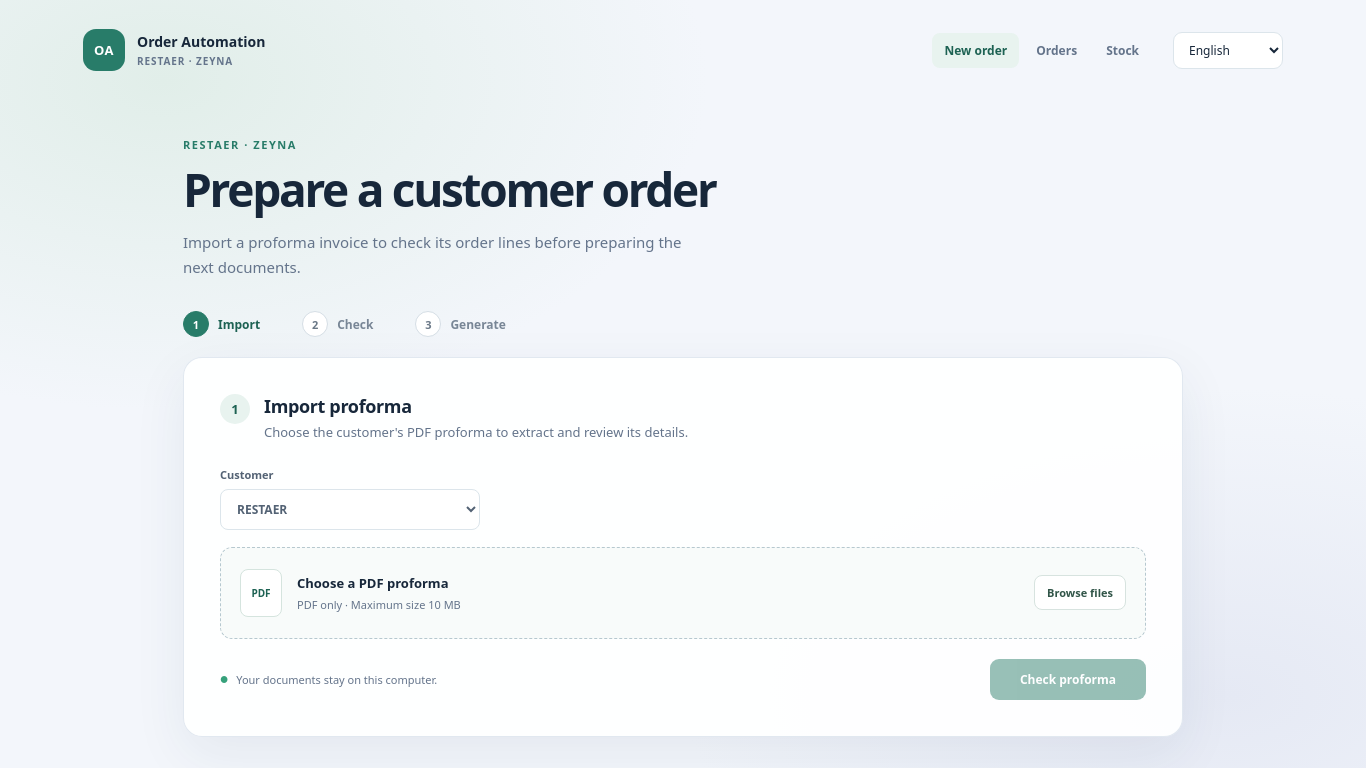
Test: Order Automation home › navigates between order history and the new-order workflow
The width and height of the screenshot is (1366, 768).
Click the button "Orders" at (1057, 50), box [1024,32,1089,68]
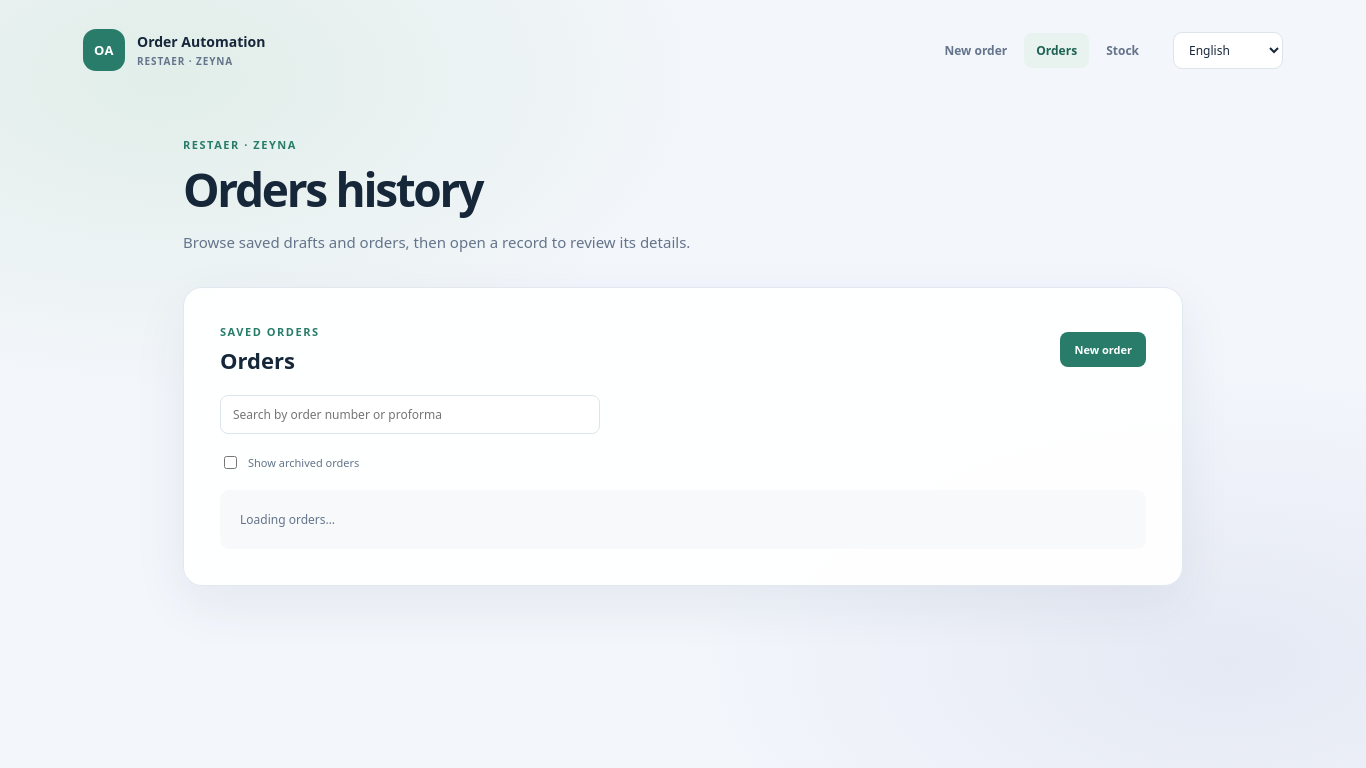
Expected: the heading "Orders history" is shown, [183,158,482,220]
Click the button "New order" in the row of "Order Automation" at (976, 50), box [932,32,1019,68]
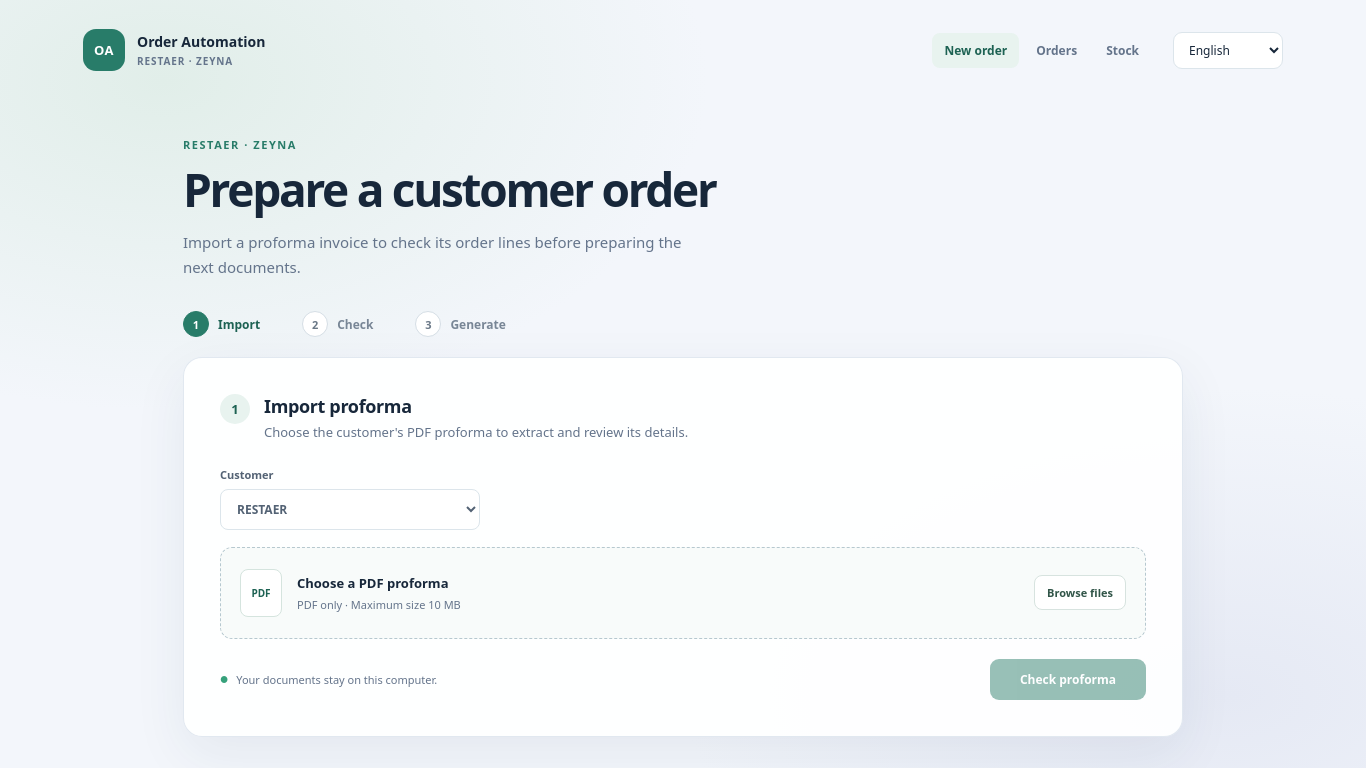
Expected: the heading "Prepare a customer order" is shown, [183,164,803,216]
Click the button "Stock" at (1123, 50), box [1094,32,1151,68]
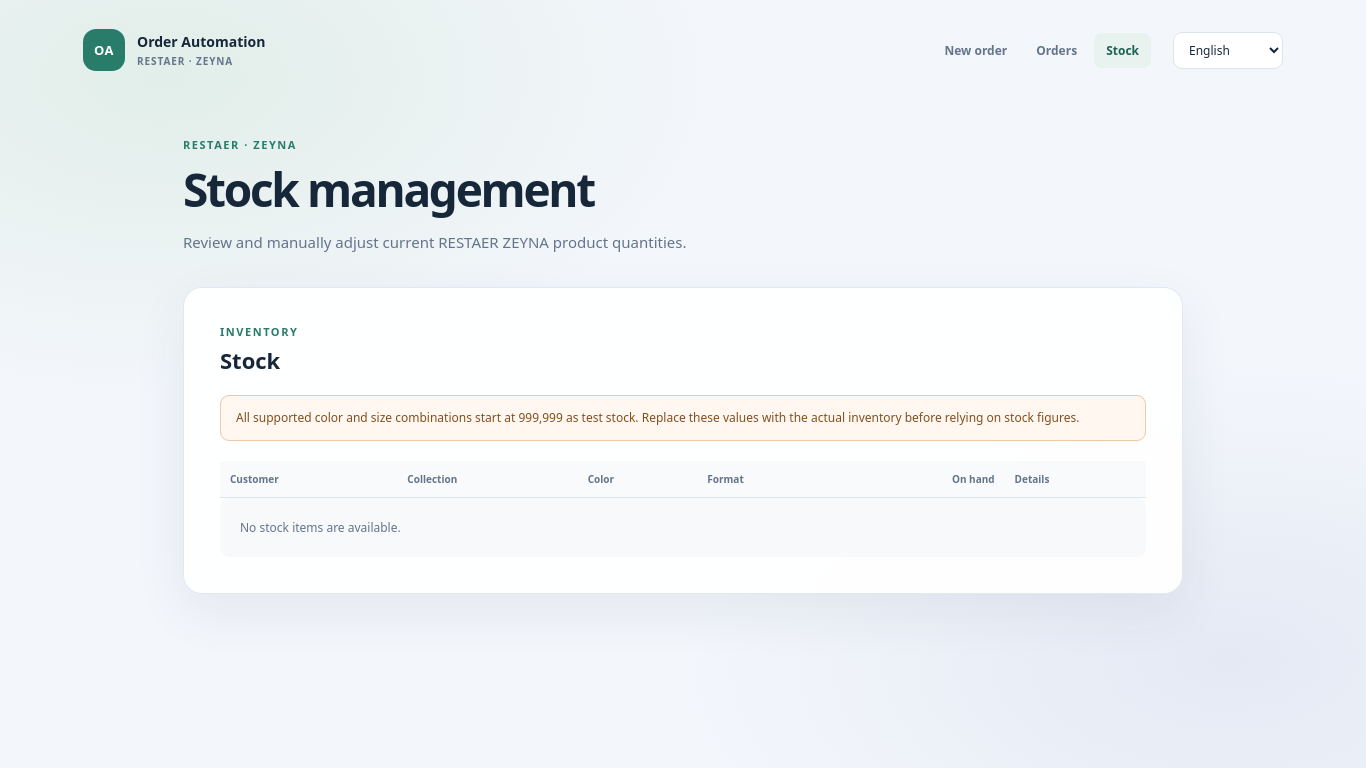
Expected: the heading "Stock management" is shown, [183,158,594,220]
